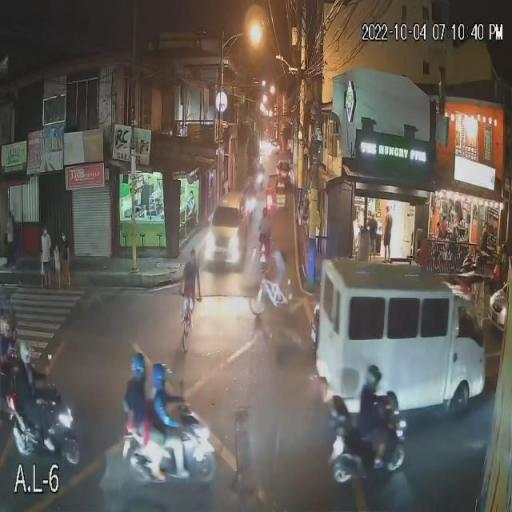helmet: (152, 363, 168, 393), (19, 340, 35, 368), (364, 368, 382, 392), (0, 309, 14, 339), (132, 354, 147, 380), (262, 207, 268, 217)
motorcycle: (326, 404, 412, 485), (122, 413, 213, 483), (12, 396, 73, 465), (251, 233, 273, 271)
rider: (150, 359, 186, 453), (355, 363, 387, 458), (15, 340, 45, 432), (120, 351, 148, 441), (0, 302, 17, 388), (260, 208, 270, 245)
